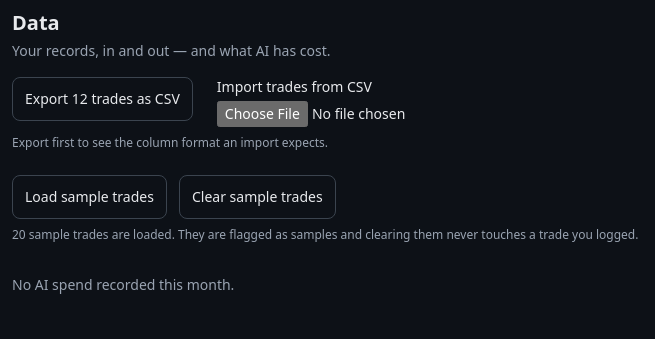
Test: sample trades › clears samples with DELETE
Click the button "Clear sample trades" at (257, 197), box left=179, top=175, right=336, bottom=219
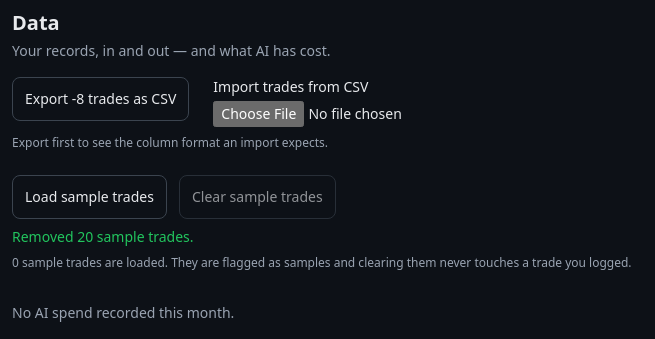
Now the message reads "Removed 20 sample trades.", box left=12, top=227, right=194, bottom=246
Now the button "Clear sample trades" is disabled, box left=179, top=175, right=336, bottom=219
